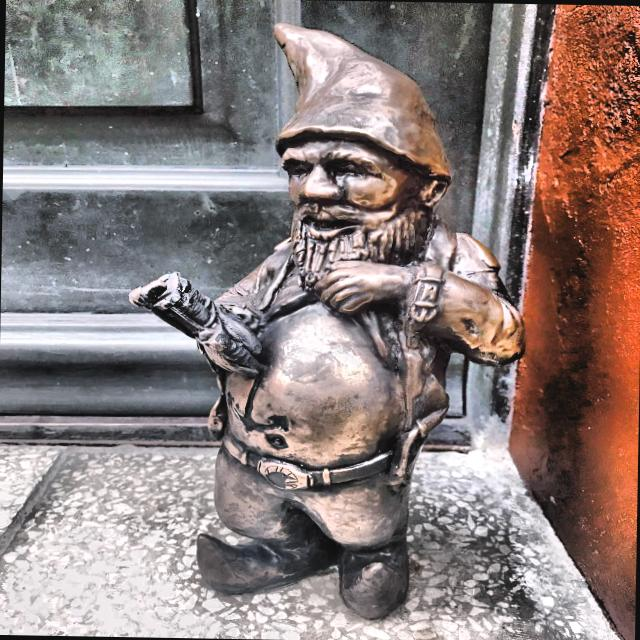TatuazystaKonstanty: (129, 24, 522, 618)
